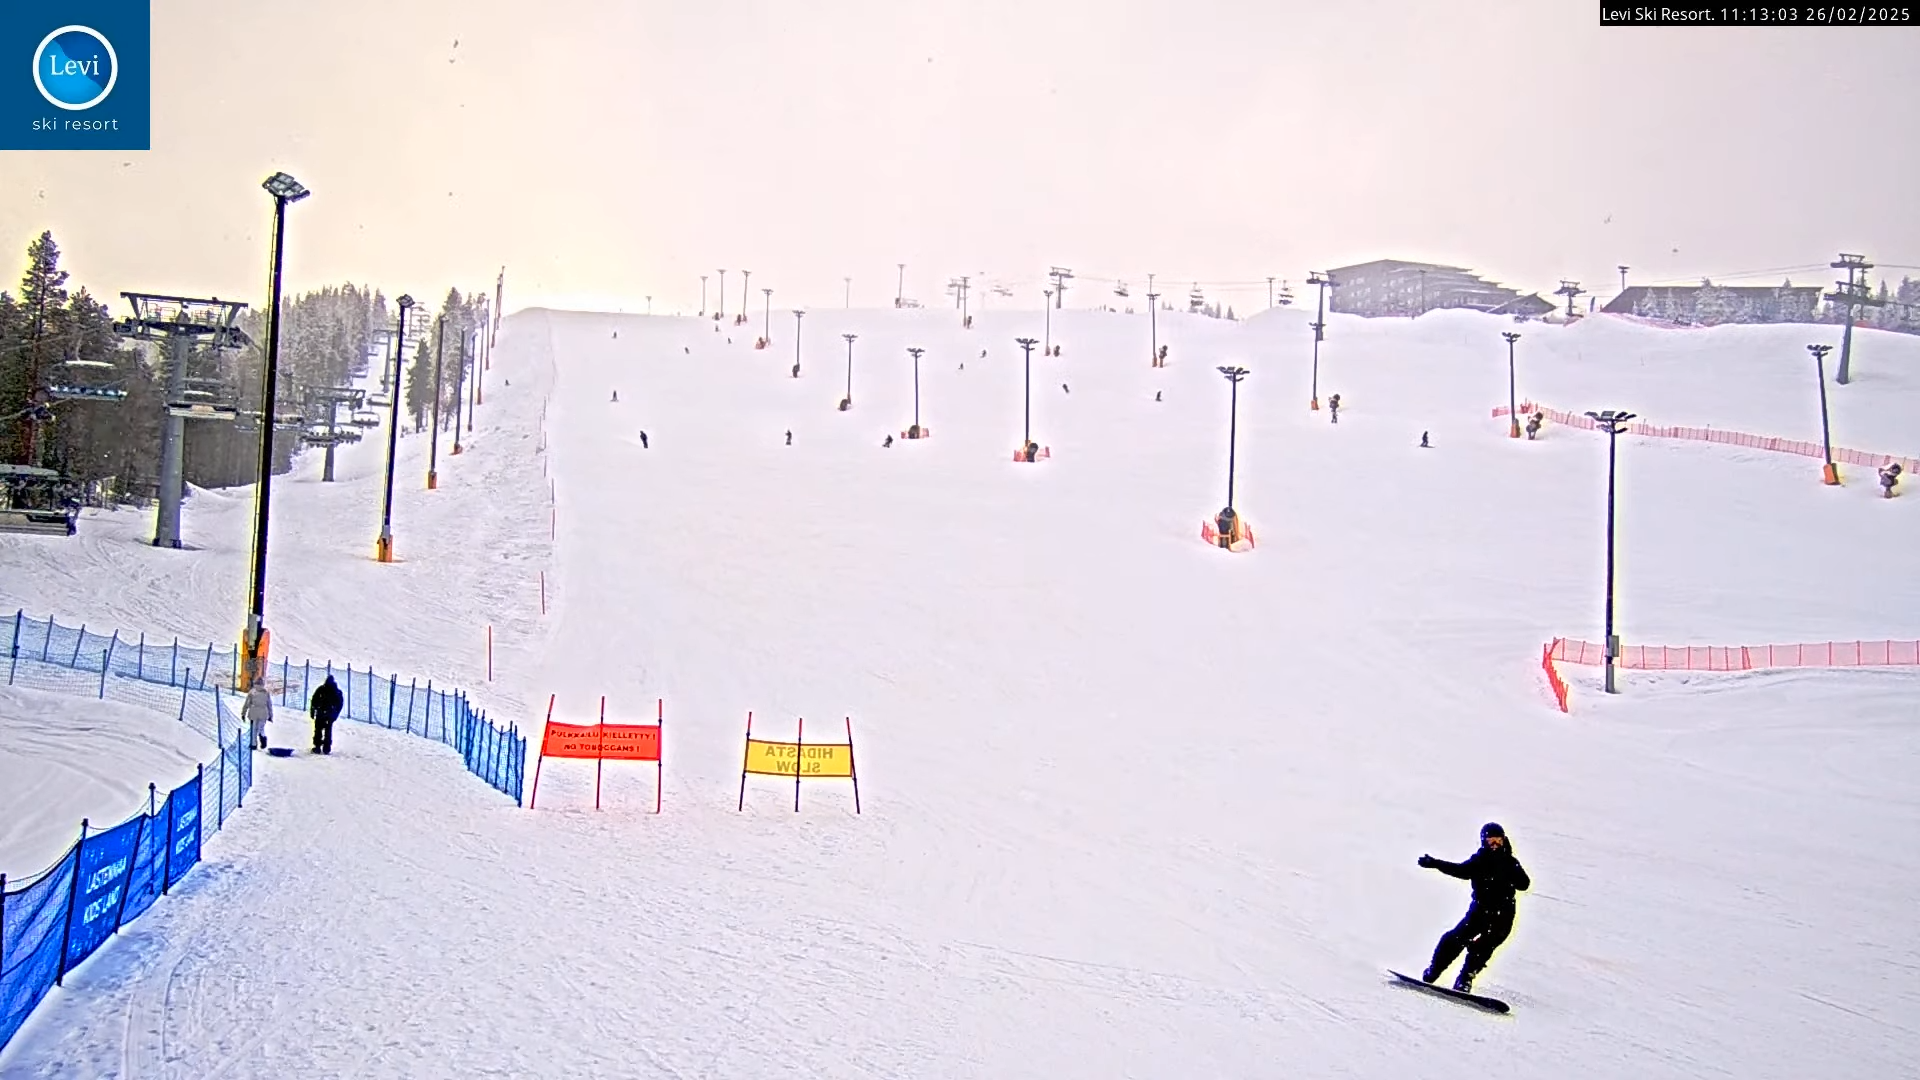snowboarder: (1389, 823, 1527, 1021)
